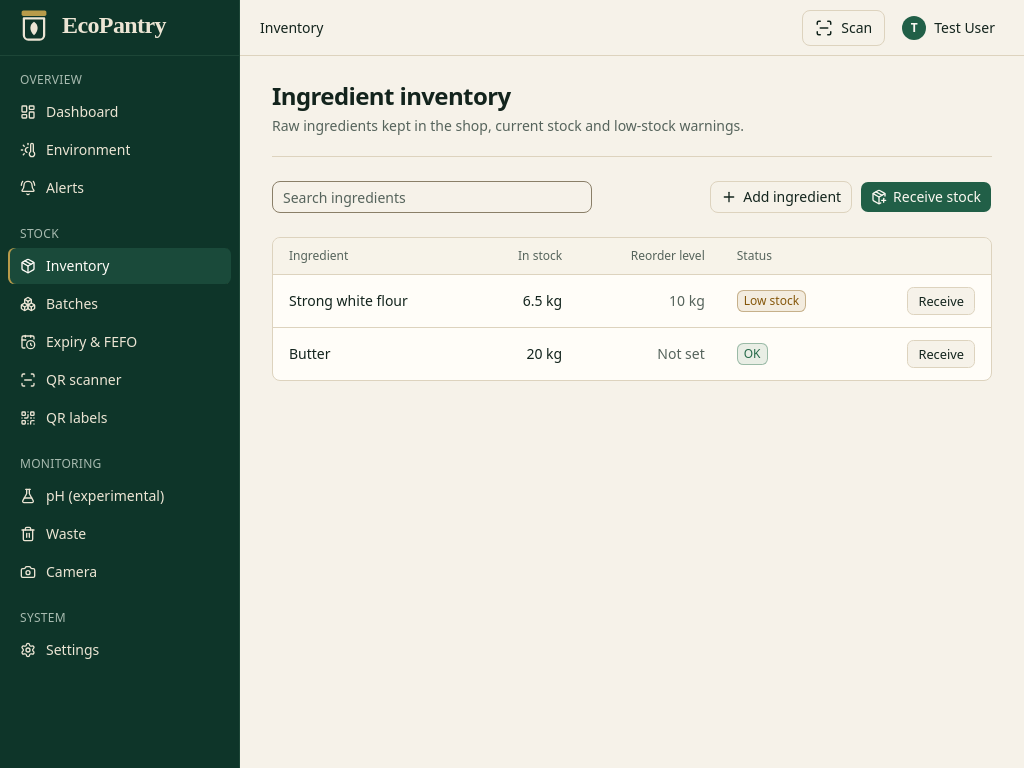
Test: Inventory page › receives stock: validates, posts with the CSRF token and confirms
The image size is (1024, 768).
Click the button "Receive stock" at (926, 197), box [860,181,992,213]
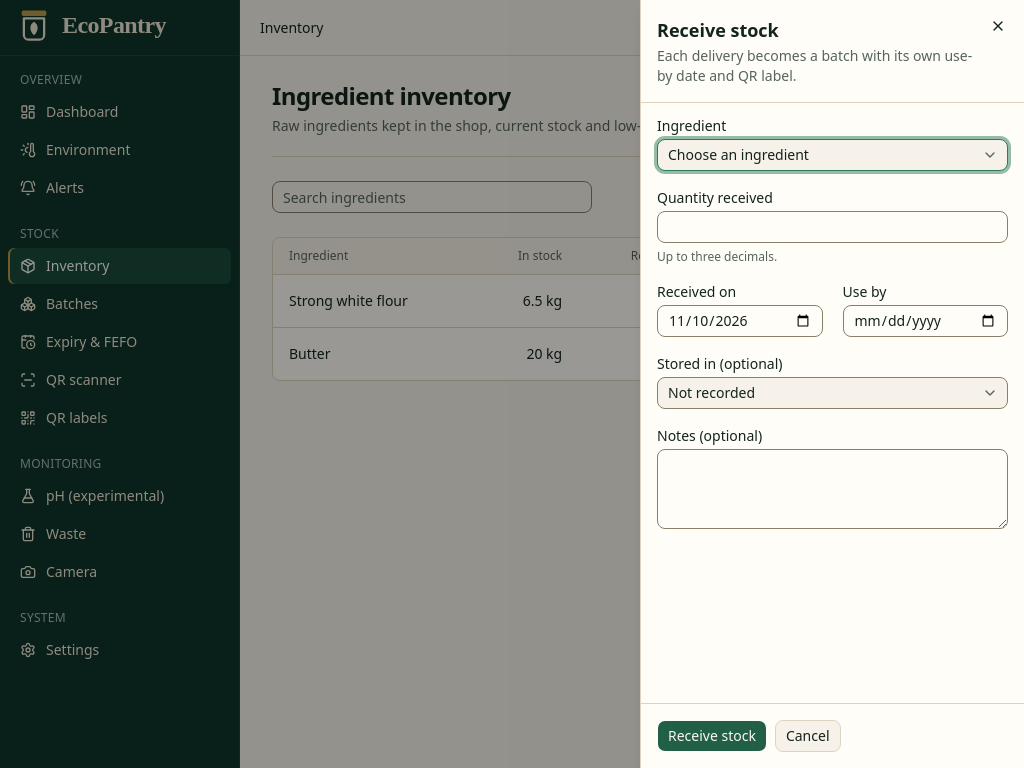
Click the button "Receive stock" at (712, 736), box [657,720,767,752]
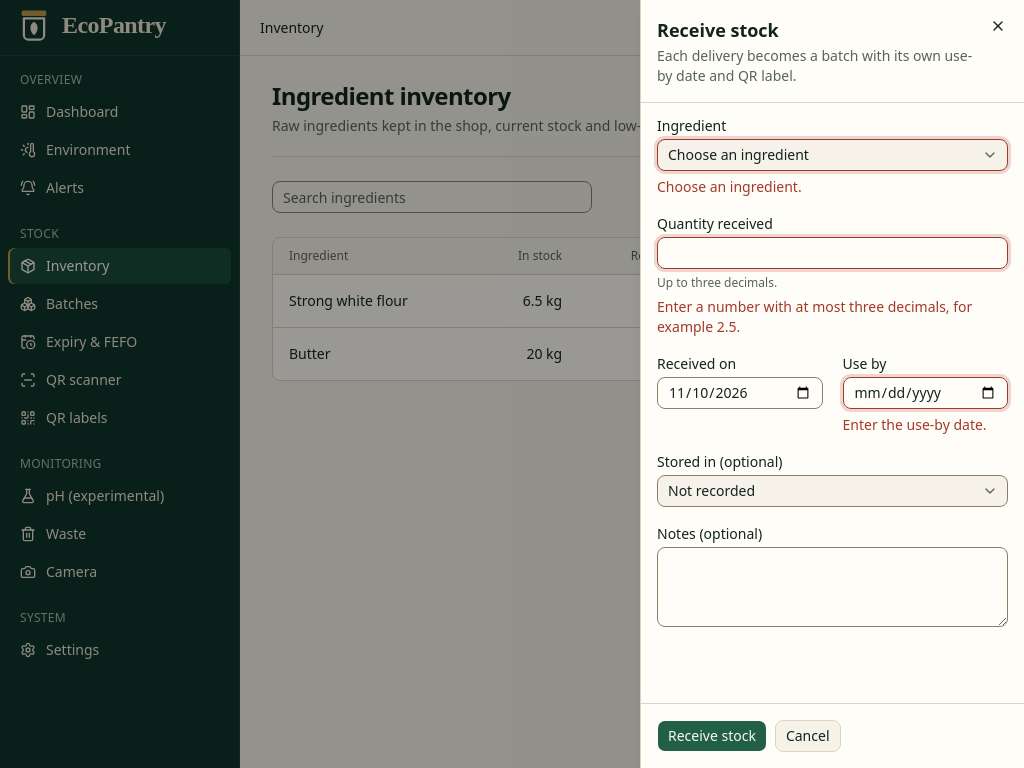
Now the text "Choose an ingredient." is shown, box [657,177,802,196]
Select "Strong white flour (kg)" in the dropdown labelled "Ingredient" at (832, 155), box [657,139,1008,171]
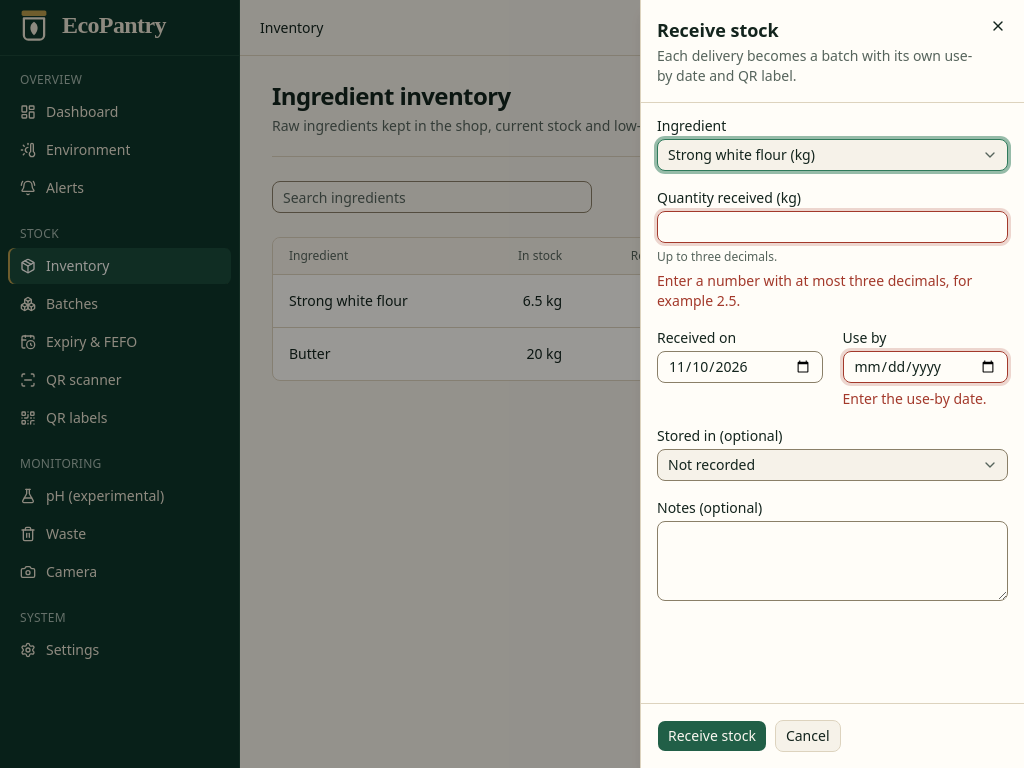
Type "5" into the field labelled "Quantity received (kg)" at (832, 227), box [657,211,1008,243]
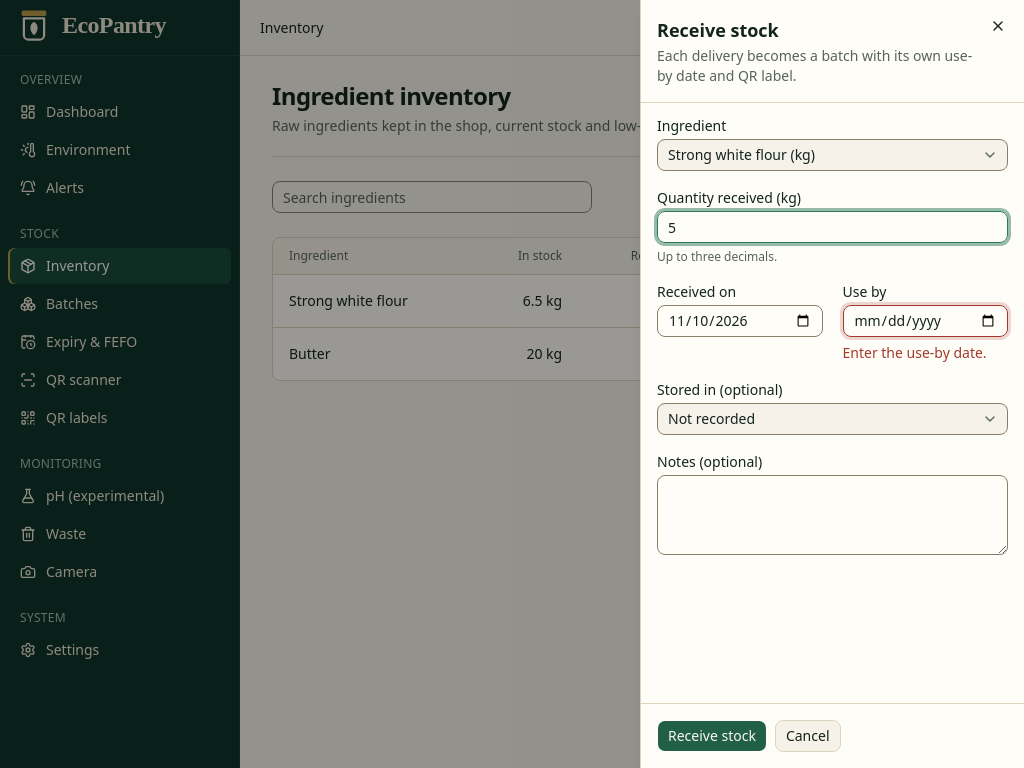
Type "2026-12-01" into the date field labelled "Use by" at (925, 321), box [842,305,1008,337]
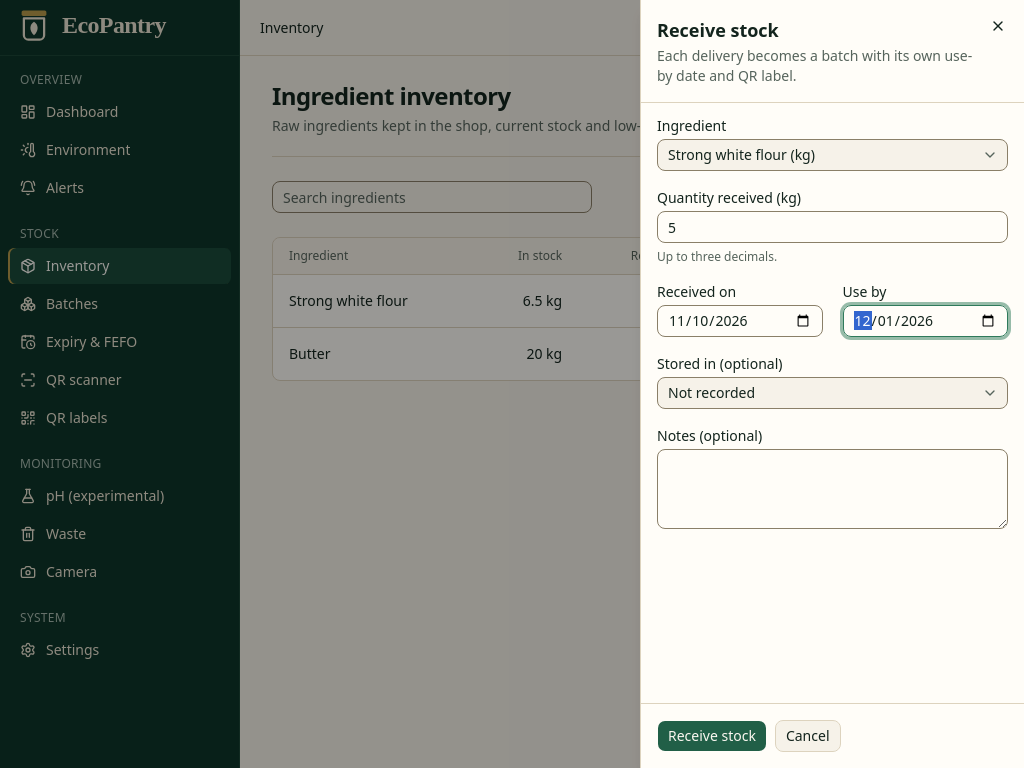
Click the button "Receive stock" at (712, 736), box [657,720,767,752]
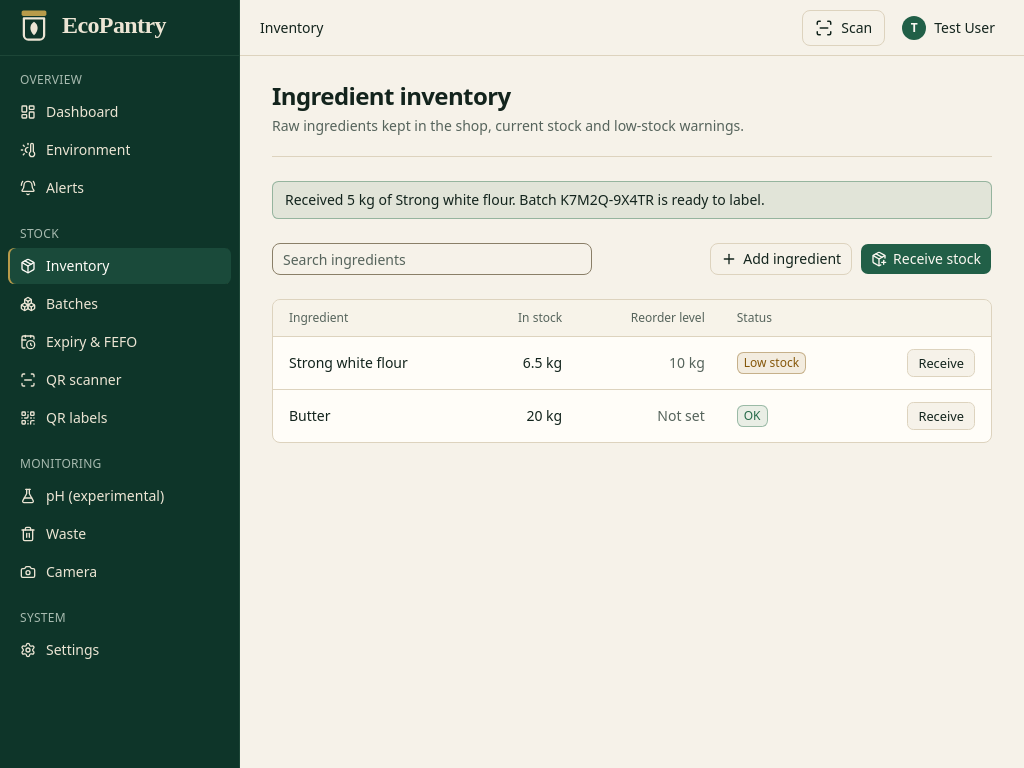
Now the text "Received 5 kg of Strong white flour. Batch K7M2Q-9X4TR is ready to label." is shown, box [272,181,992,219]
